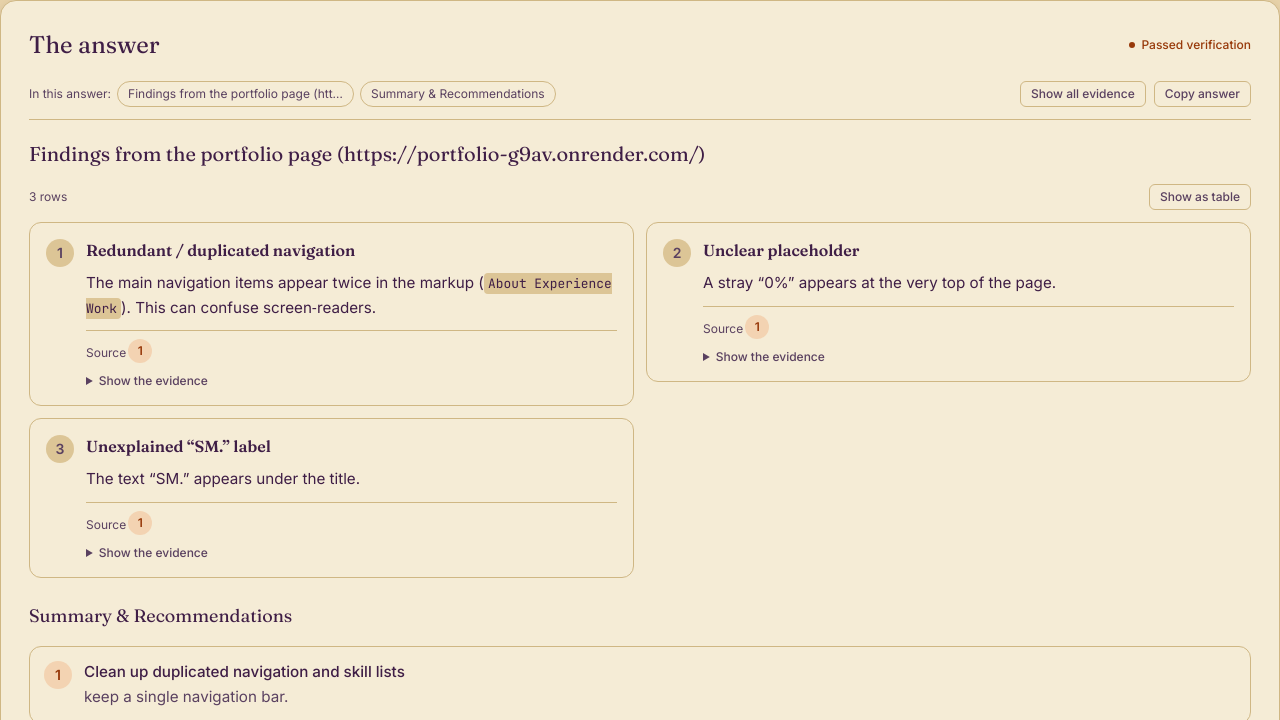
Test: AnswerPaper — copying › says plainly when it could not copy, and points to the original text
The width and height of the screenshot is (1280, 720).
Click the button "Copy answer".
click(1202, 94)  # box 1154,81 -> 1251,107
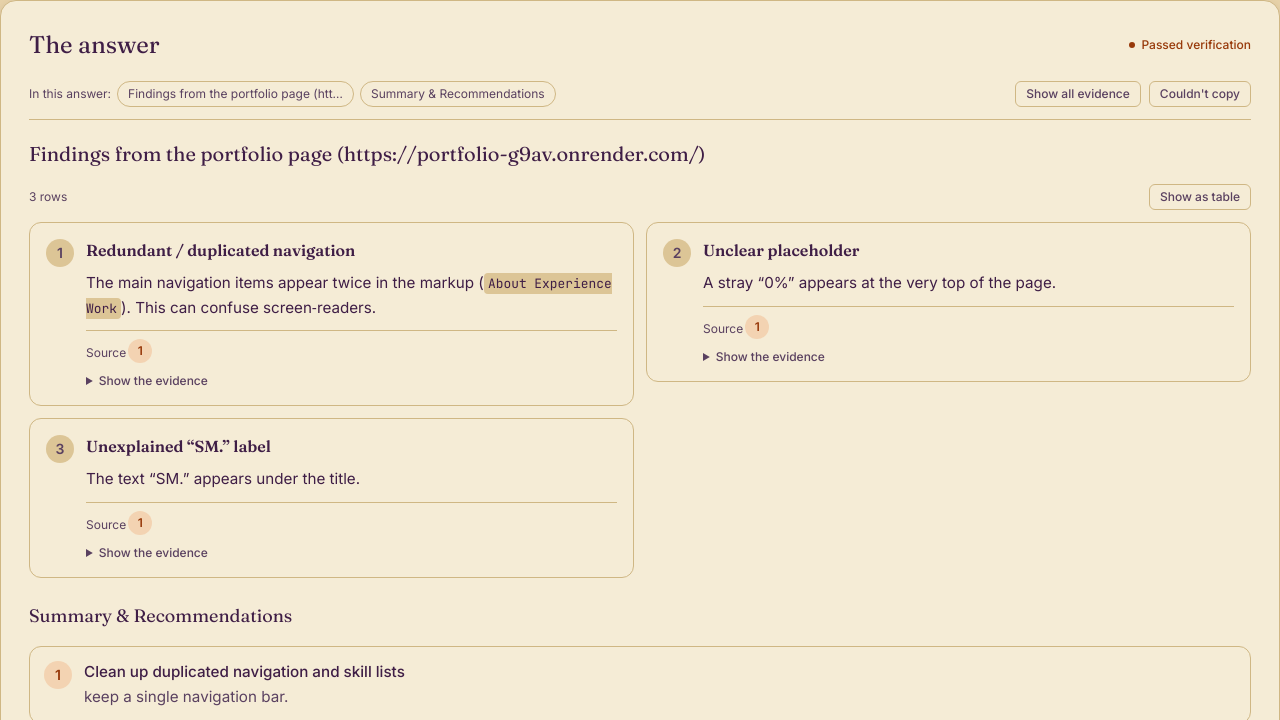
Expected: the button "Couldn't copy" is shown, 1149,81 -> 1251,107
